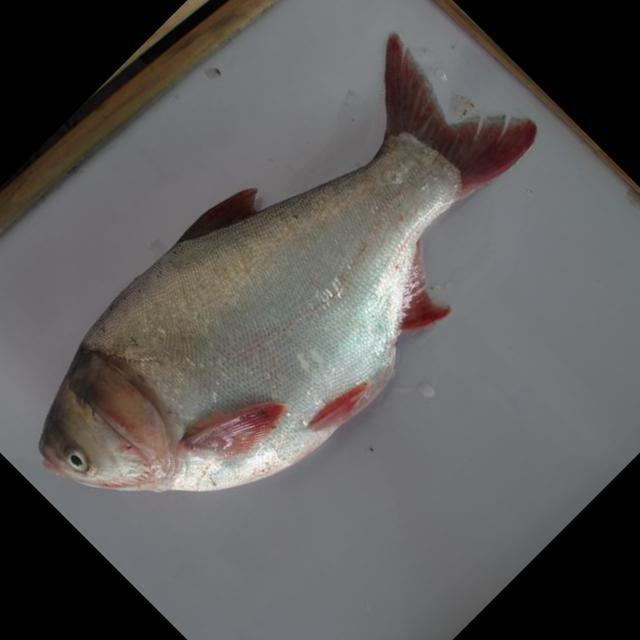SilverCarp: (41, 36, 525, 503)
